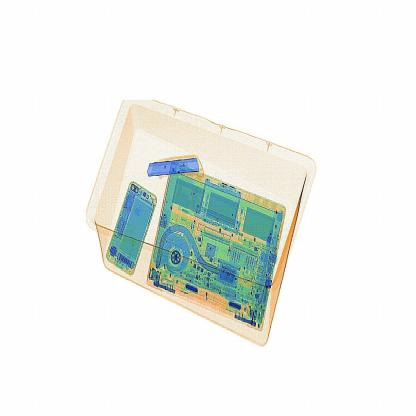pliers: (144, 149, 211, 188)
